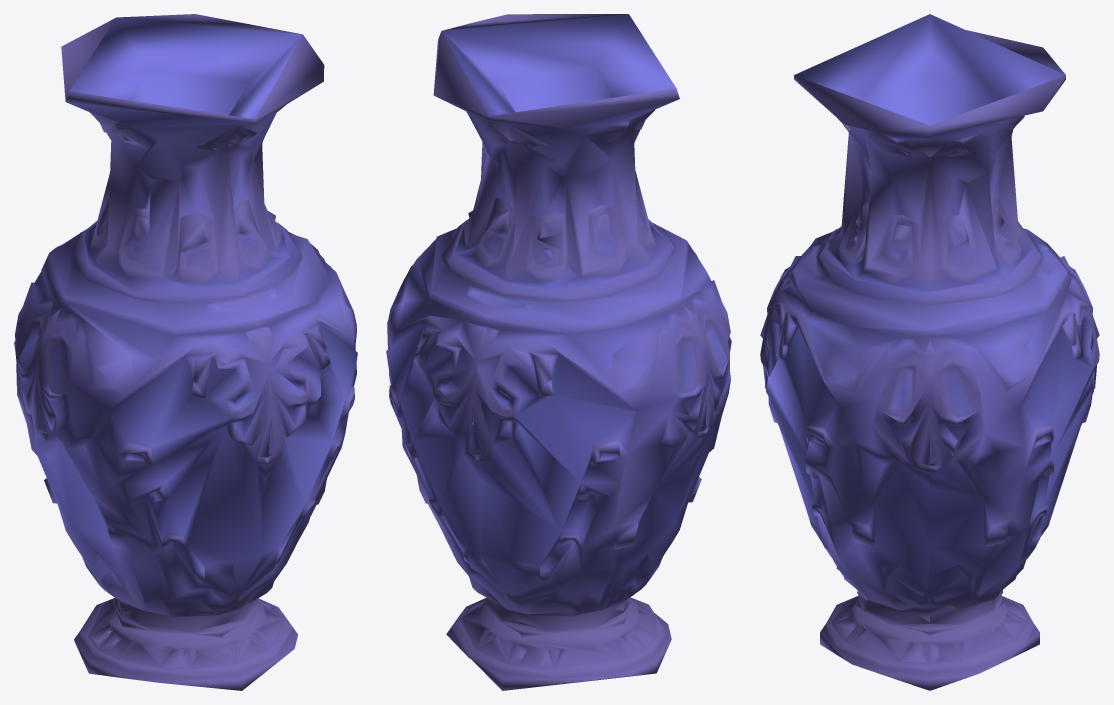
The model's file is model.progressive.glb.
The picture shows the model from 3 angles, left to right: view 1: azimuth 30°, elevation 25°; view 2: azimuth 150°, elevation 25°; view 3: azimuth 270°, elevation 25°; orthographic projection. The views are drawn at different scales.
Visible parts, largest first — view 1: mesh_input; view 2: mesh_input; view 3: mesh_input.
Part boxes in pixels (x1=…): mesh_input: x1=14, y1=14, x2=357, y2=690; mesh_input: x1=386, y1=14, x2=731, y2=690; mesh_input: x1=760, y1=14, x2=1099, y2=690.
Bounding box in the file's own units: 1.03 × 1.88 × 1.01.
1 material, 1 textured.
